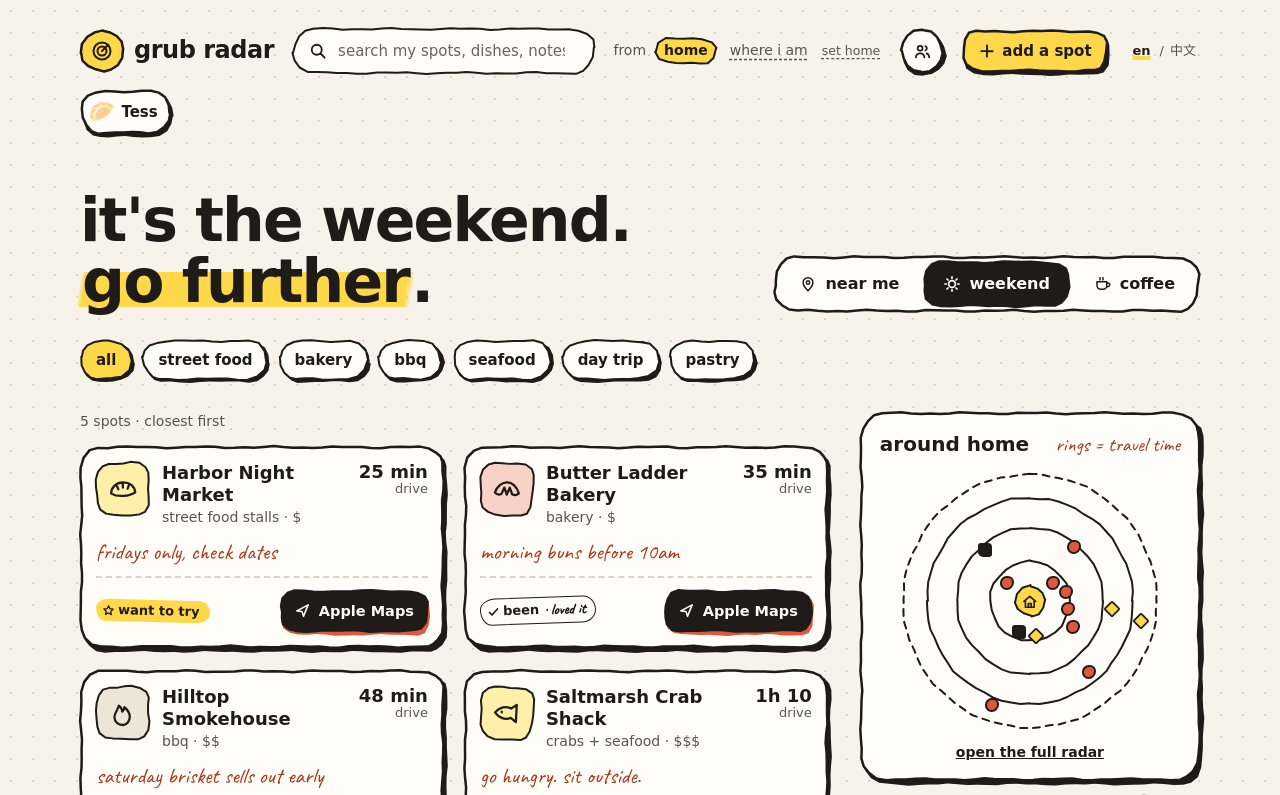
time-of-day headline › opens weekend daytime in weekend mode with weekend copy
Expected: the heading "it's the weekend. go further ." is shown, [80,190,664,312]
# picking near me yourself sticks in the URL, since it's not today's default
Click the button "near me". click: [849, 284]
box: [779,261,919,307]
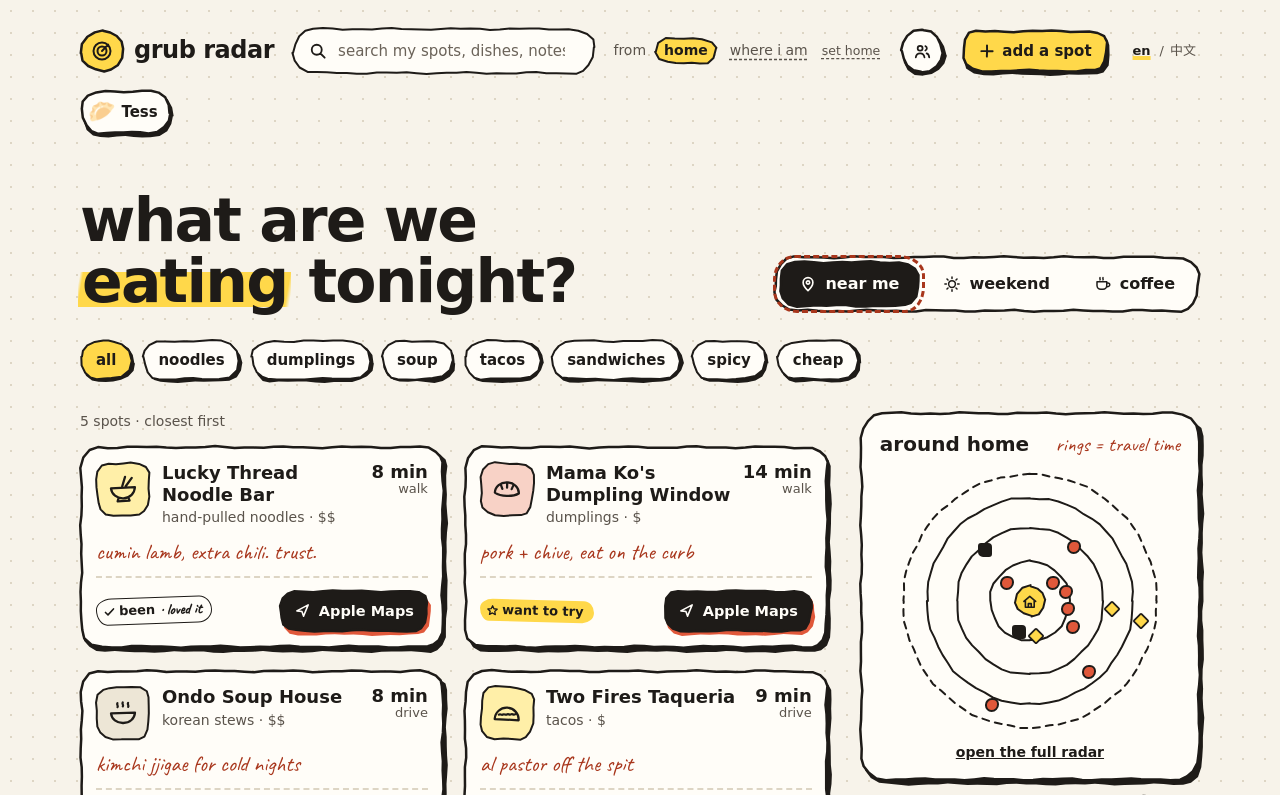
Expected: the heading "what are we eating tonight?" is shown, [80,185,576,316]
